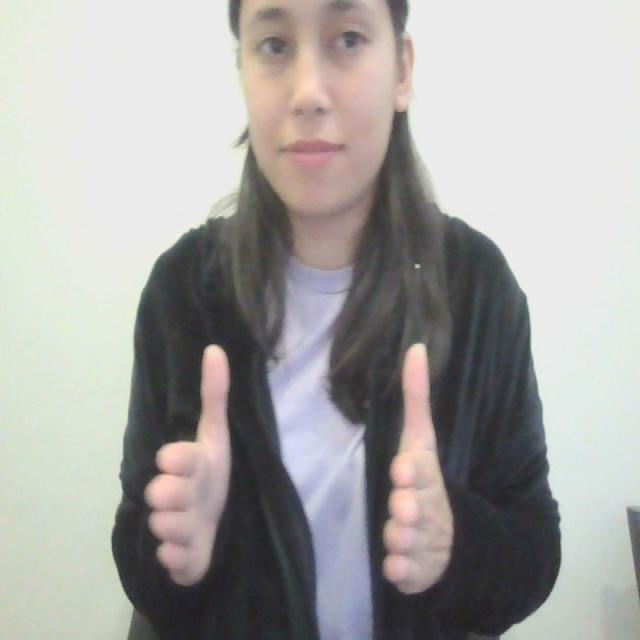Nasil: (140, 330, 478, 612)
